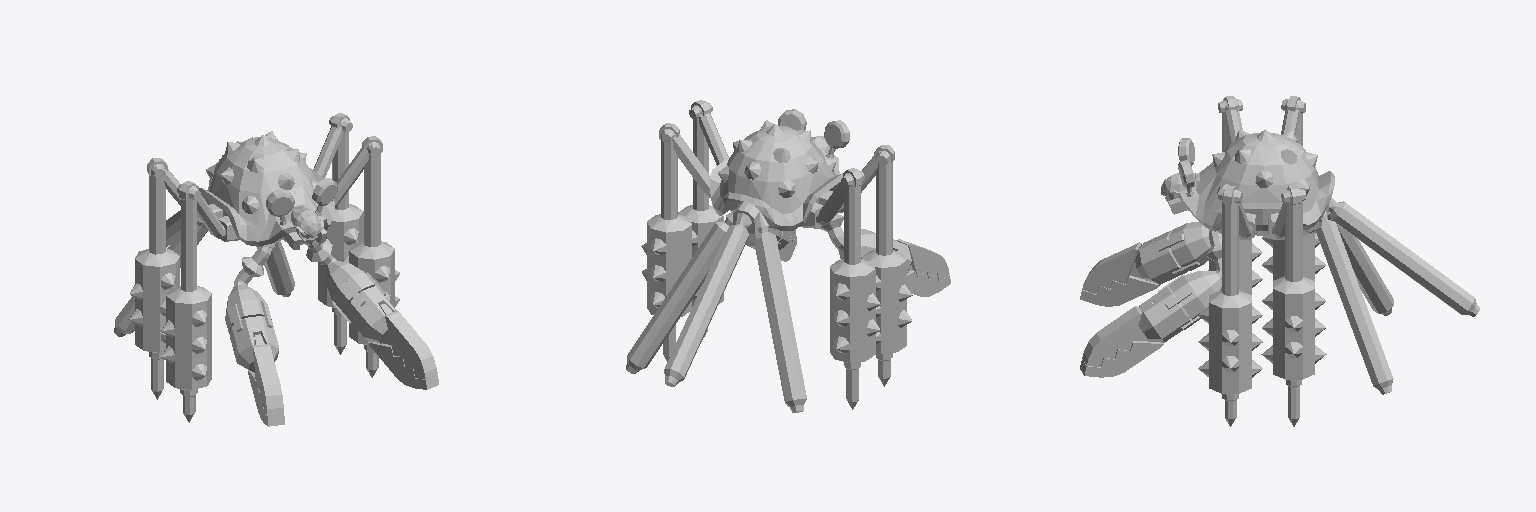
Rendered from Crabs-Y.obj.
The picture shows the model from 3 angles: view 1: azimuth 30°, elevation 25°; view 2: azimuth 150°, elevation 25°; view 3: azimuth 270°, elevation 25°; orthographic projection.
Parts seen in each view (by area): view 1: submesh5; view 2: submesh5; view 3: submesh5.
Part boxes in pixels (left/top/right/bottom): submesh5: left=114, top=113, right=438, bottom=426; submesh5: left=626, top=100, right=950, bottom=412; submesh5: left=1080, top=96, right=1479, bottom=426.
Bounding box in the file's own units: 62.39 × 63.08 × 90.27.